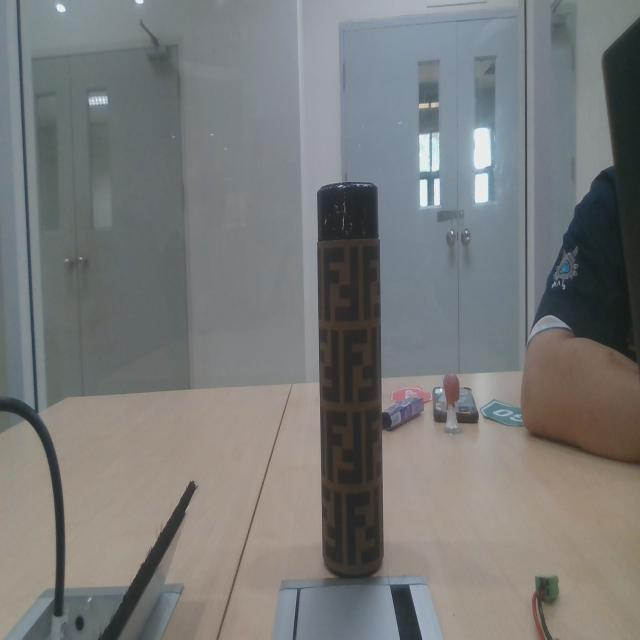Pole: (314, 168, 395, 586)
